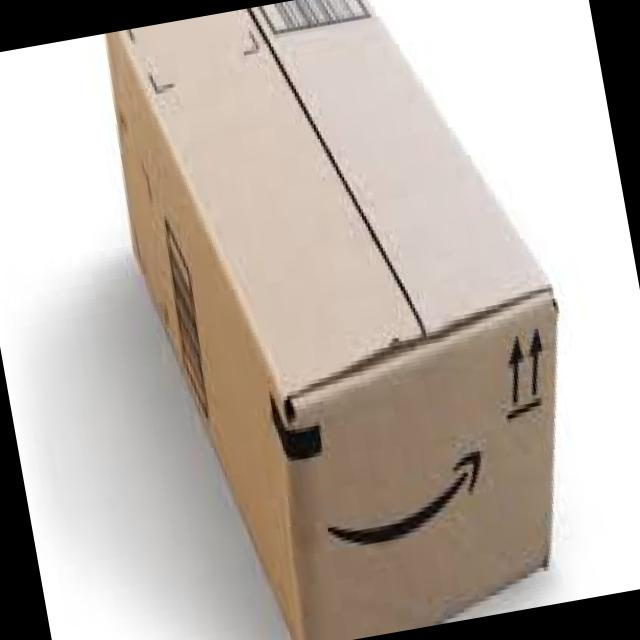box: (105, 0, 556, 640)
